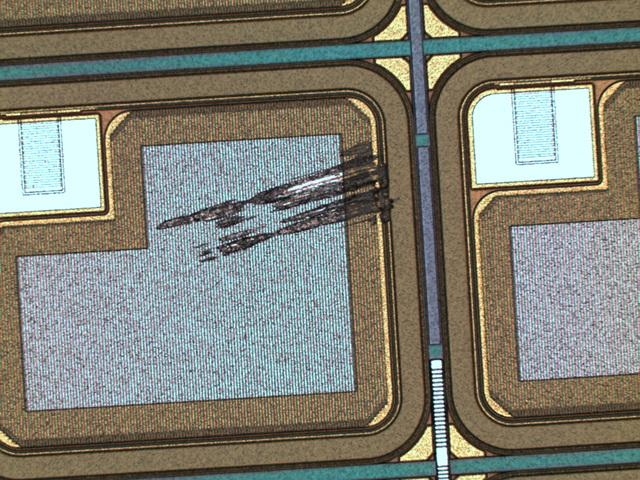SCRATCH: (152, 139, 398, 276)
